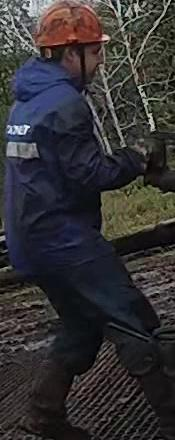gloves: (122, 134, 168, 179)
helmet: (32, 0, 110, 48)
vest: (2, 56, 107, 276)
